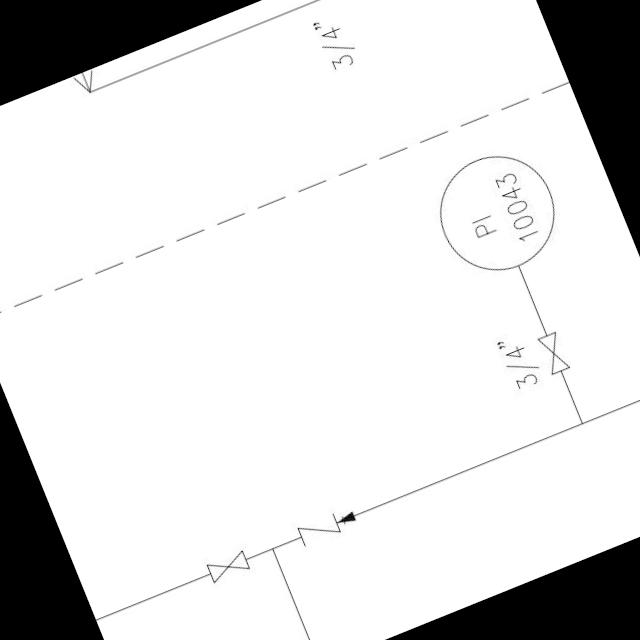GV: (197, 541, 256, 586), (532, 324, 574, 378)
